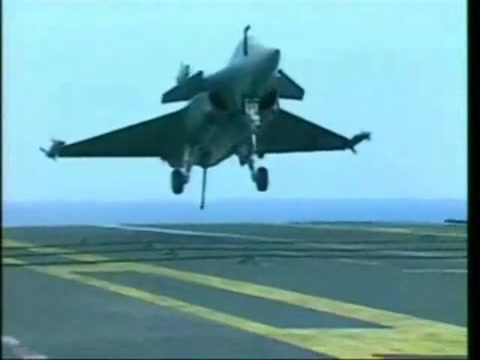aeroplane: (43, 25, 376, 215)
